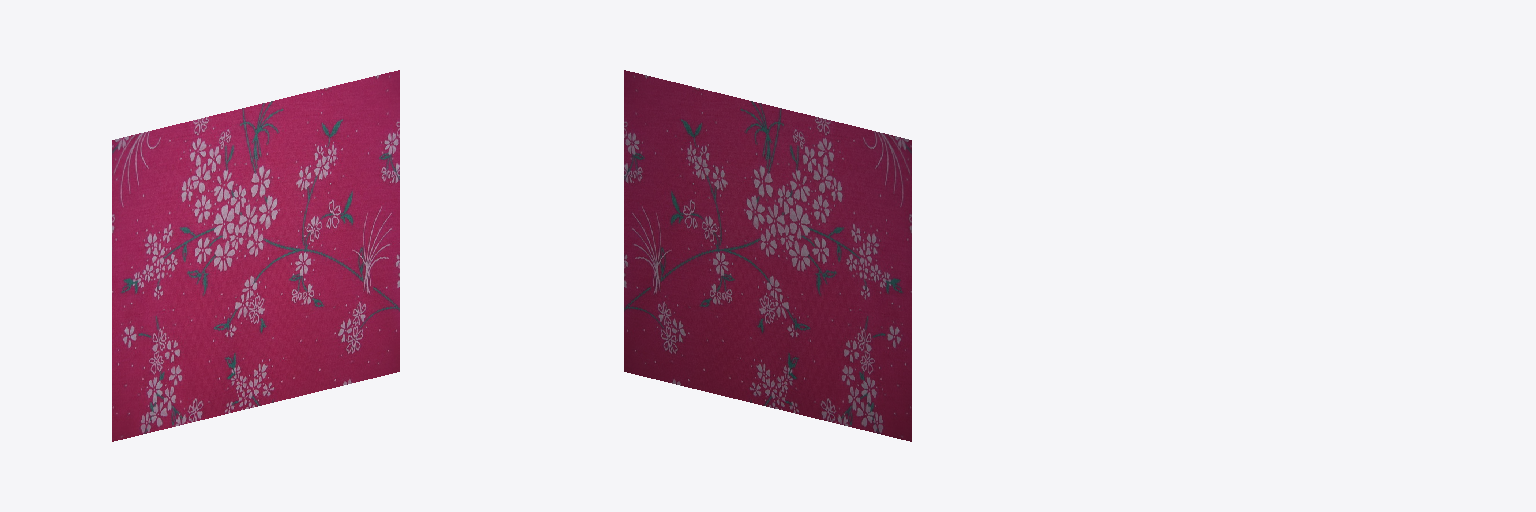
3 views of the same model, side by side, from view 1: azimuth 30°, elevation 25°; view 2: azimuth 150°, elevation 25°; view 3: azimuth 270°, elevation 25° (orthographic).
Bounding box in the file's own units: 1 × 1 × 0.
Materials: 1 (1 with a texture image).